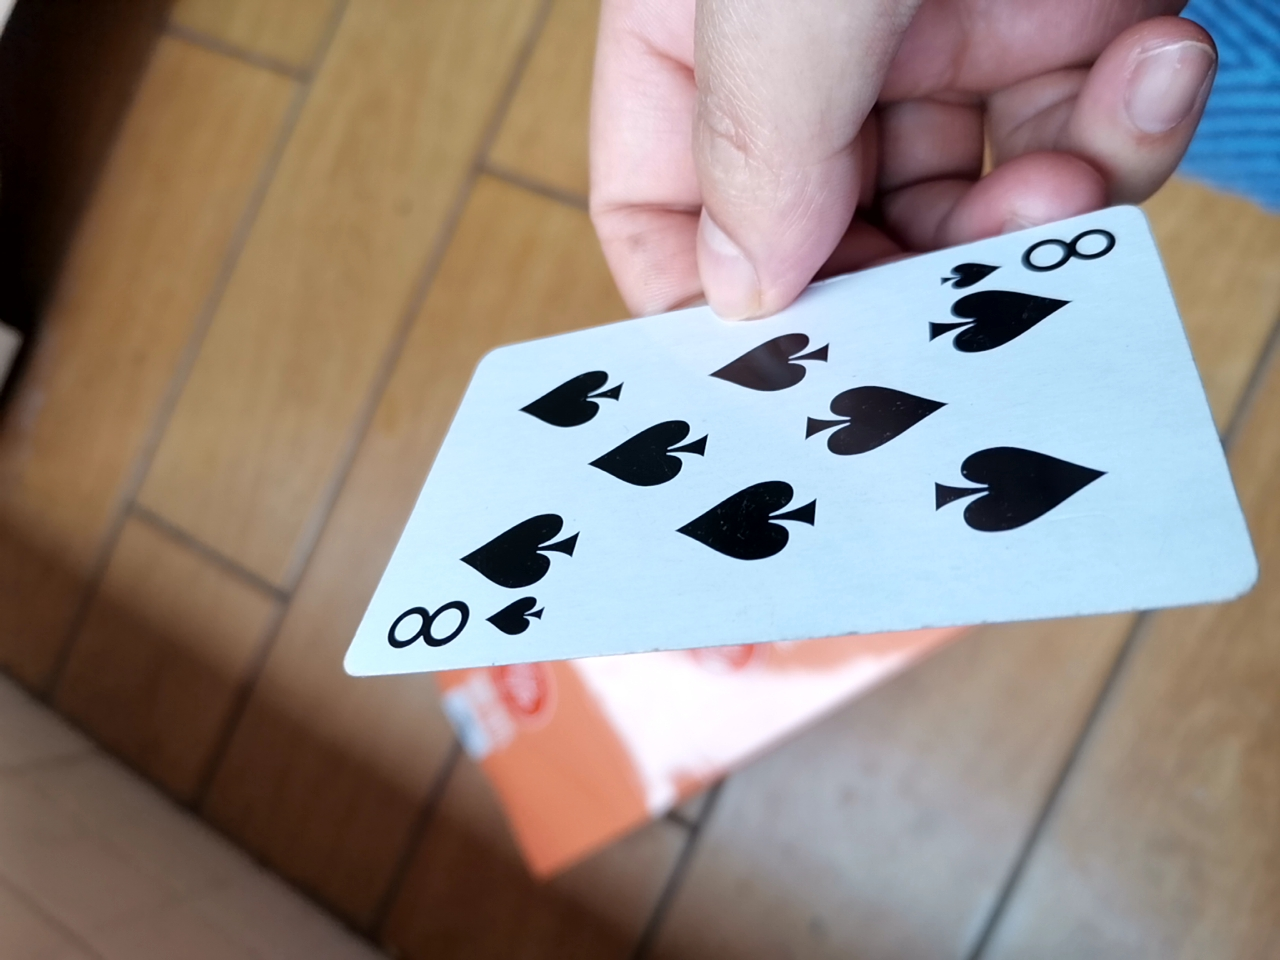ht 8: (335, 207, 1268, 714)
